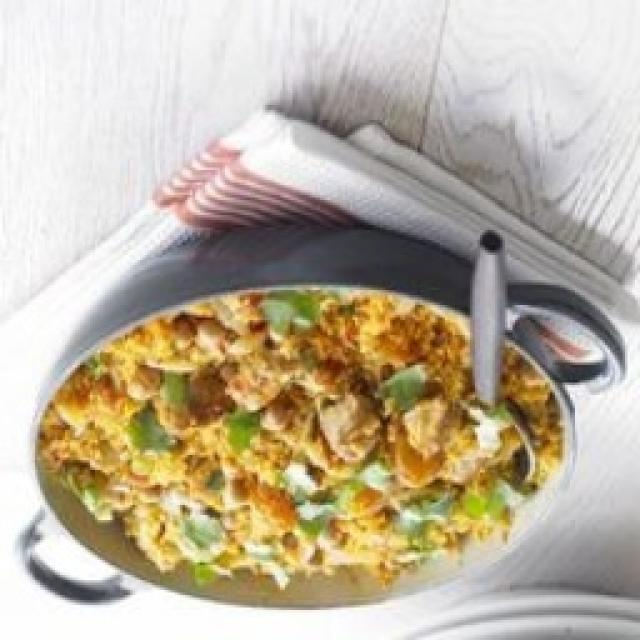Couscous: (40, 291, 560, 588)
